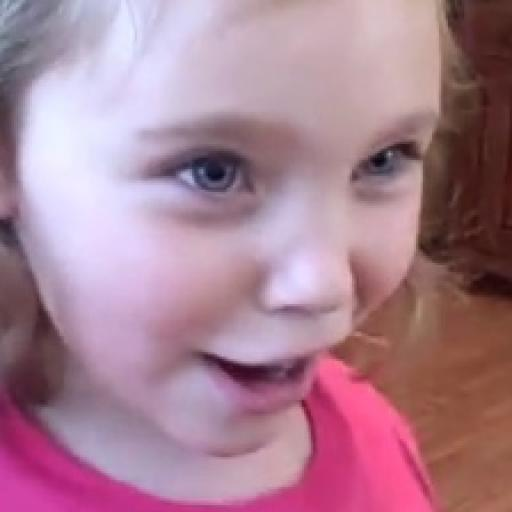Autism: (4, 5, 453, 459)
